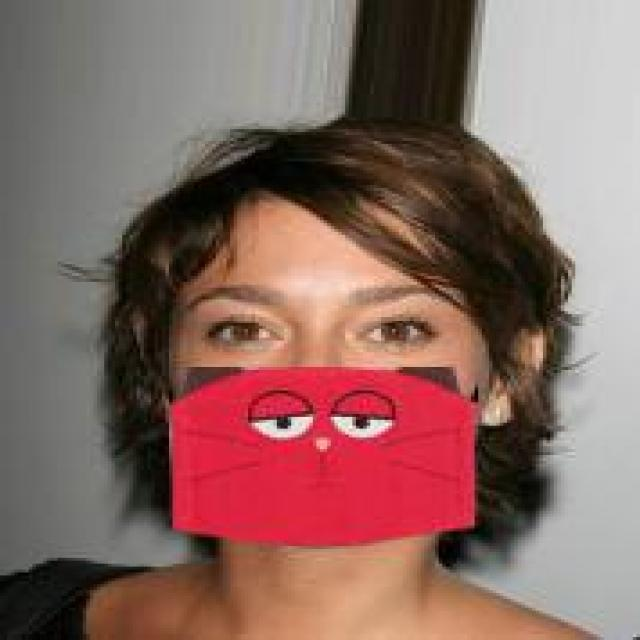mask: (130, 135, 568, 558)
